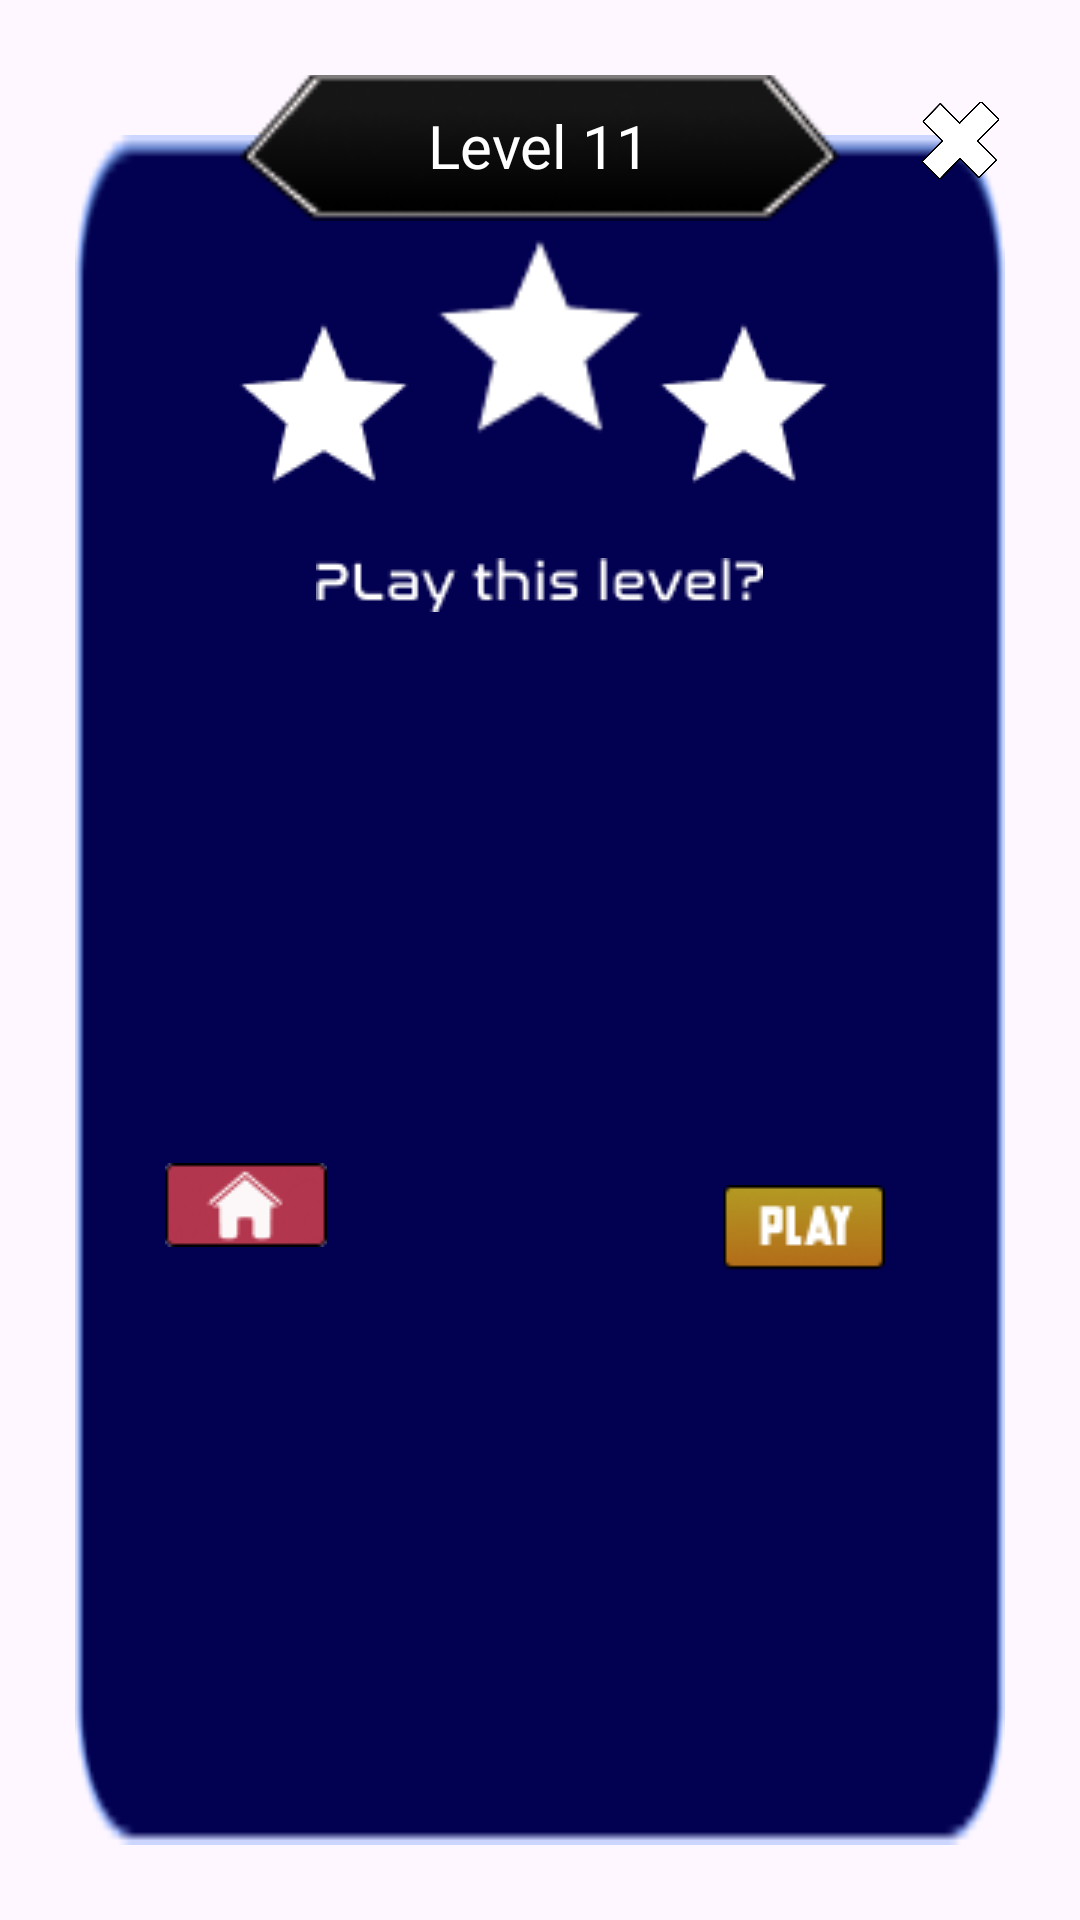

Screen size 1080*1920. Icon name, then its box in pixels as Rect(x1, y1, x2, y2):
game info home: Rect(165, 1163, 327, 1247)
silang: Rect(921, 102, 999, 180)
